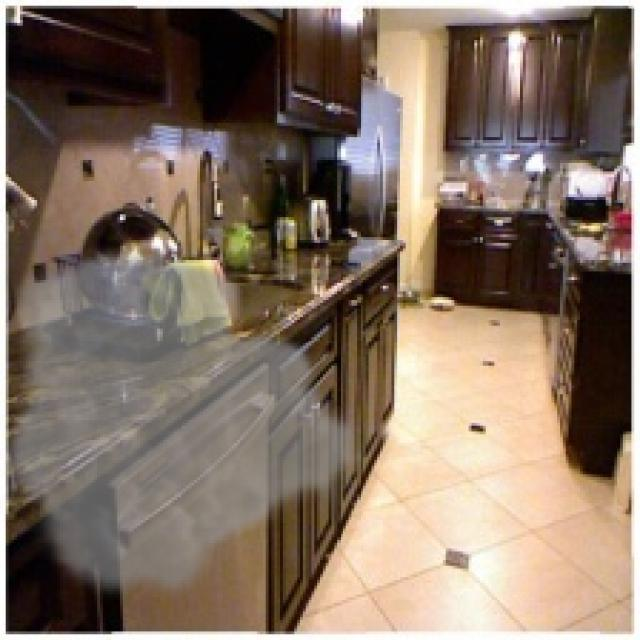Smoke: (2, 243, 368, 606)
